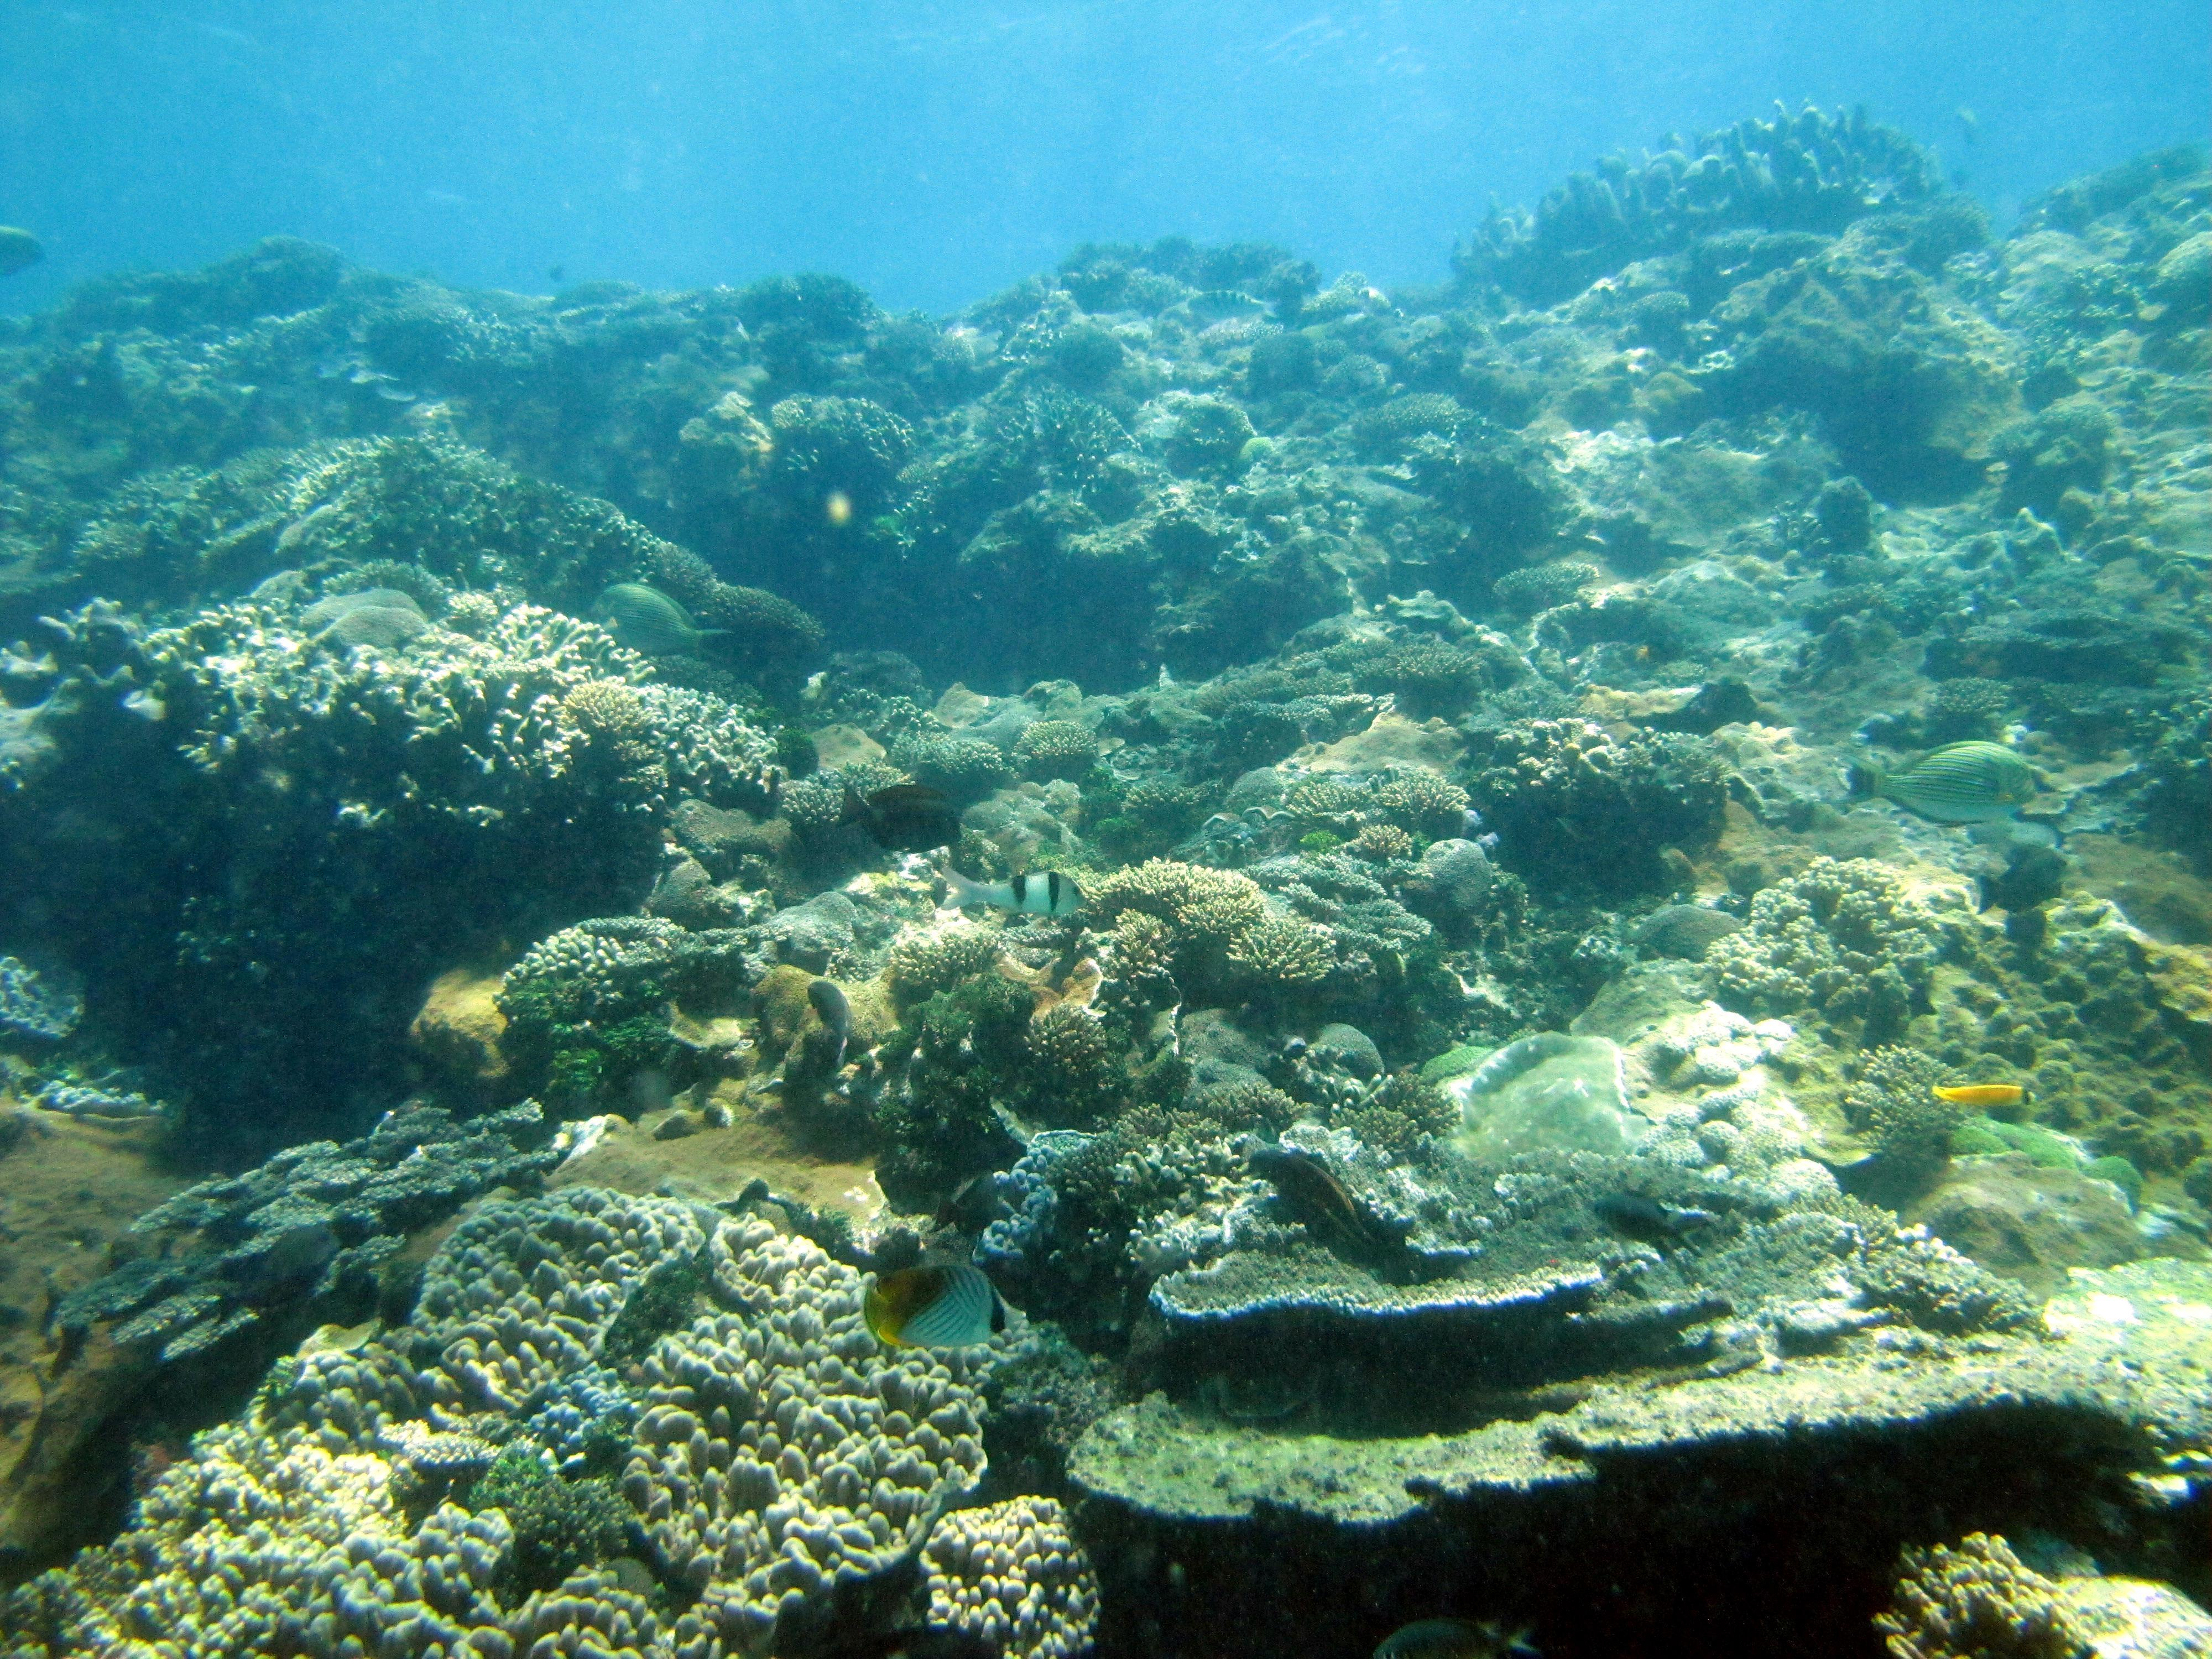Fish: (914, 845, 1127, 950)
